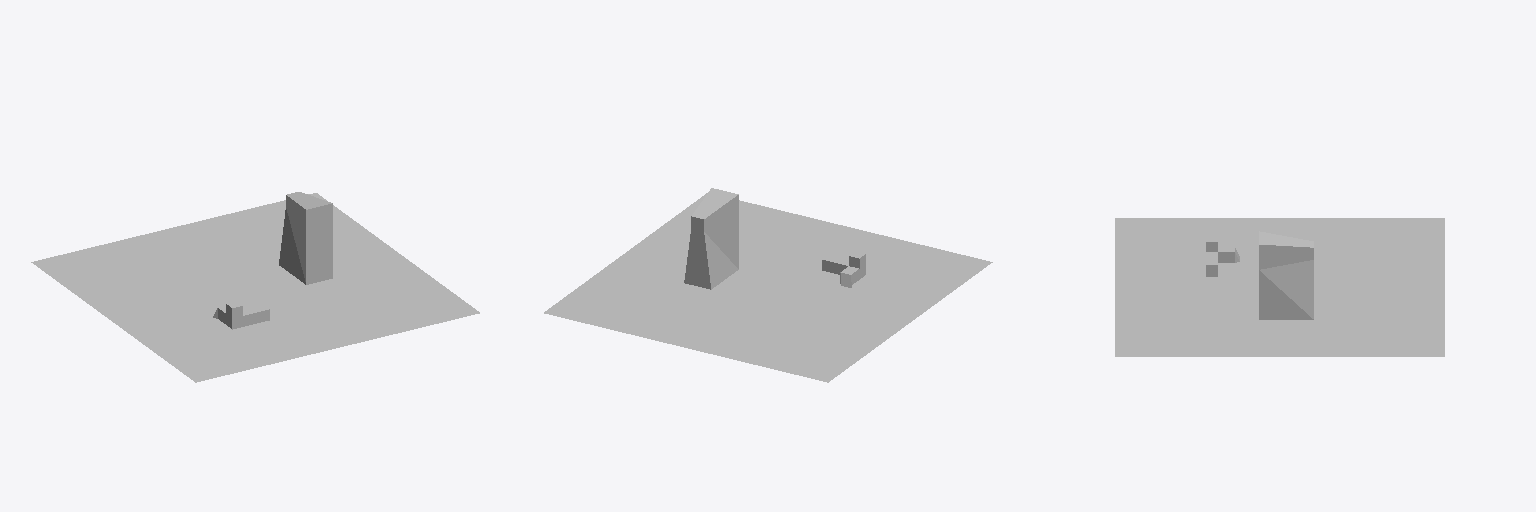
File: test_map_color.obj
3 views of the same model, side by side, from view 1: azimuth 30°, elevation 25°; view 2: azimuth 150°, elevation 25°; view 3: azimuth 270°, elevation 25° (orthographic).
Visible parts, largest first — view 1: Plane, Cube, Cube.001; view 2: Plane, Cube, Cube.001; view 3: Plane, Cube, Cube.001.
Part boxes in pixels (x1,y1,x2,y2): Plane: (31, 193, 479, 382); Cube: (279, 192, 332, 284); Cube.001: (213, 301, 269, 329); Plane: (544, 193, 992, 382); Cube: (684, 188, 738, 289); Cube.001: (822, 252, 865, 287); Plane: (1115, 218, 1444, 356); Cube: (1259, 231, 1313, 319); Cube.001: (1206, 237, 1239, 276).
Bounding box in the file's own units: 22.68 × 6.71 × 22.68.